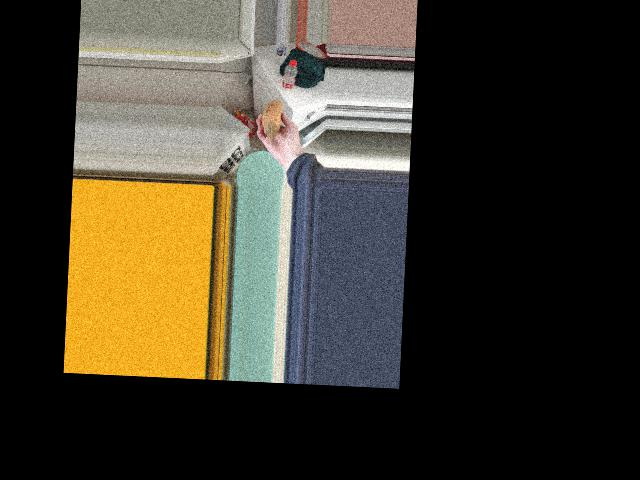sweet_potato: (263, 96, 285, 143)
